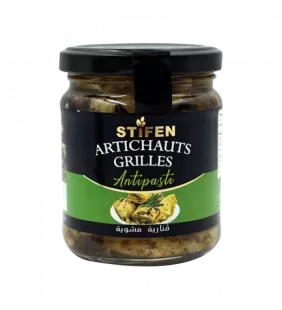Promotion: (52, 35, 229, 276)
